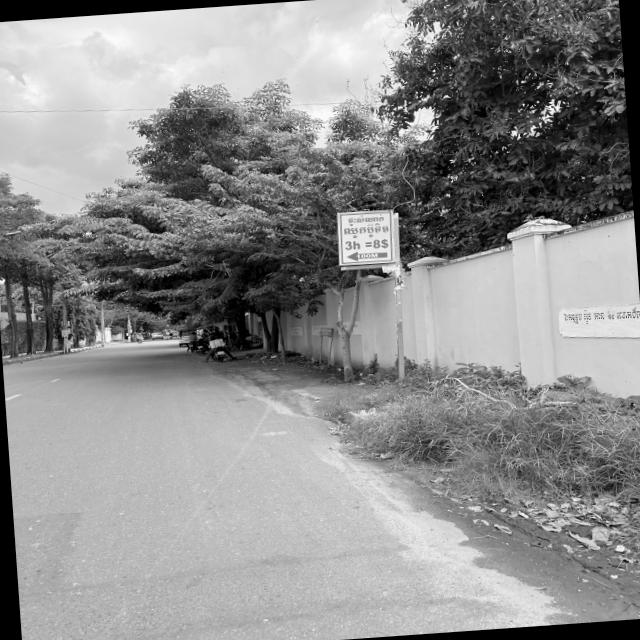703: (340, 234, 389, 251)
Yolov11_80vkh: (341, 222, 388, 240), (343, 212, 386, 224)
